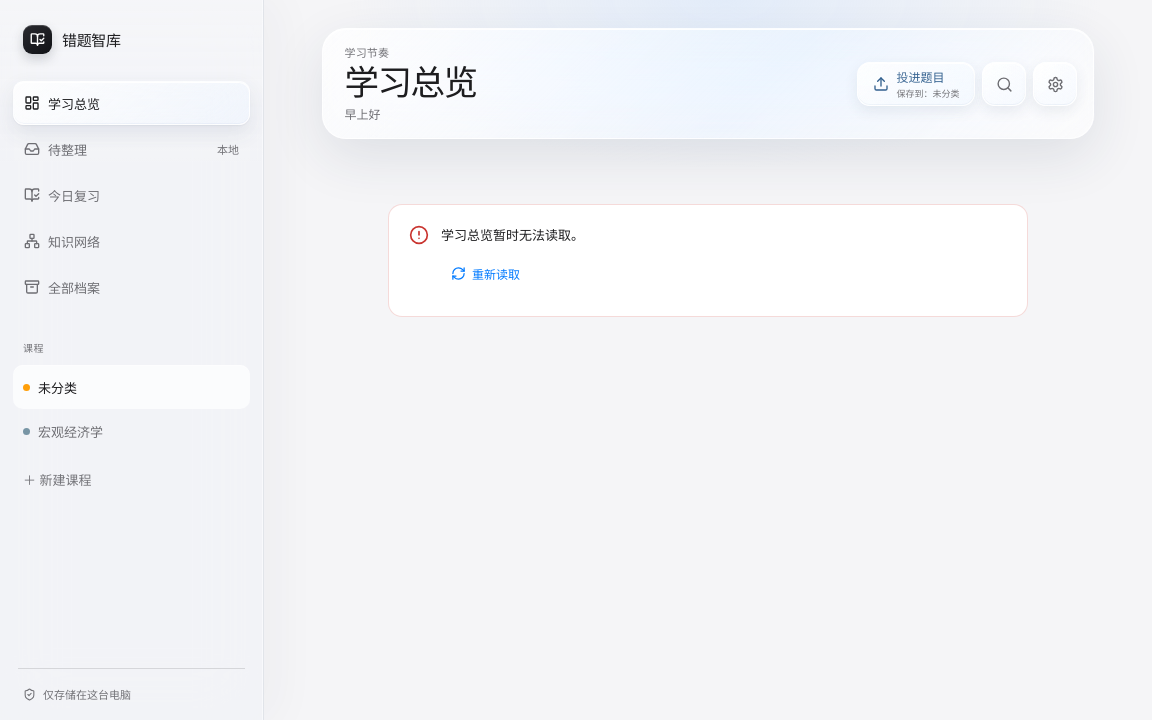
opens and cleans up global search from the toolbar and Ctrl+K
Click the button named "全局搜索": (1004, 84) [982, 62, 1026, 106]
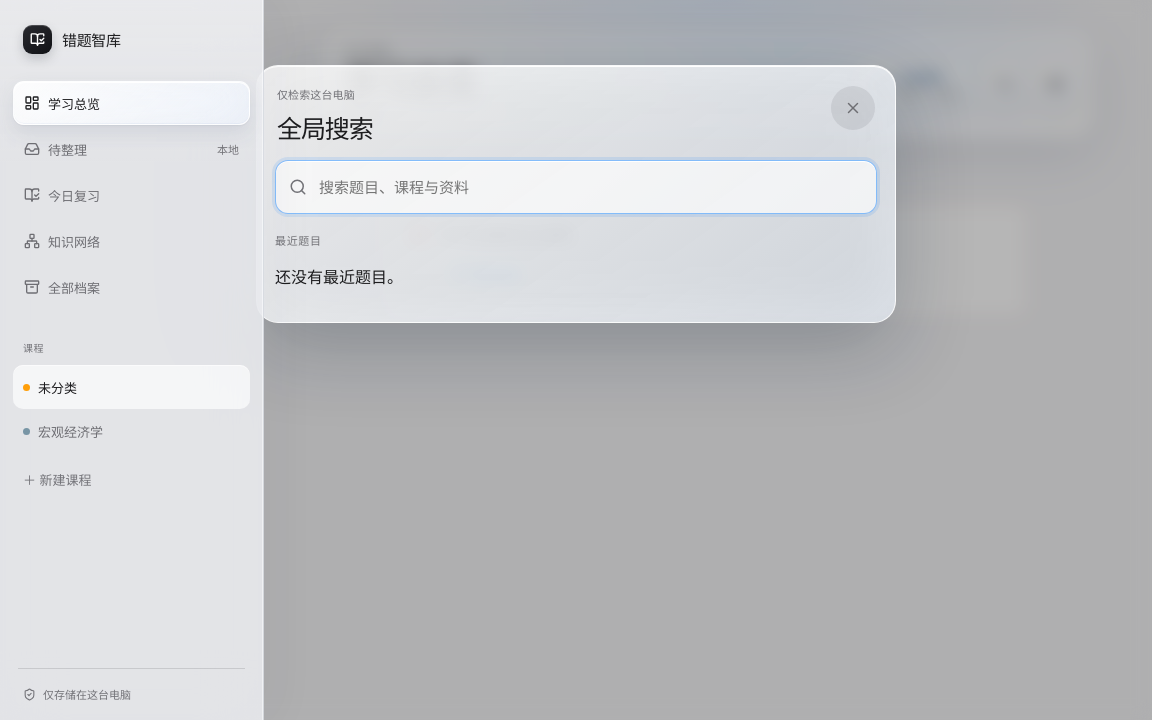
Expected: the dialog "全局搜索" is shown, [256, 65, 896, 323]
Click the button named "关闭全局搜索": (853, 108) [831, 86, 875, 130]
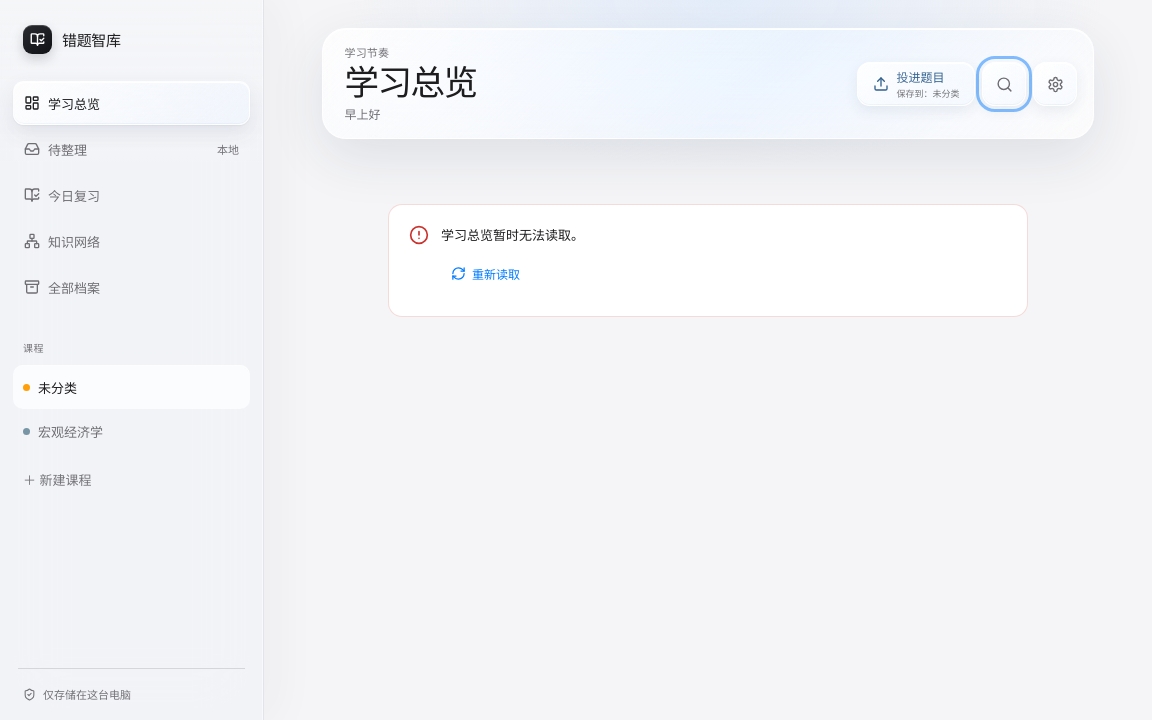
Type keys "{Control>}k{/Control}"
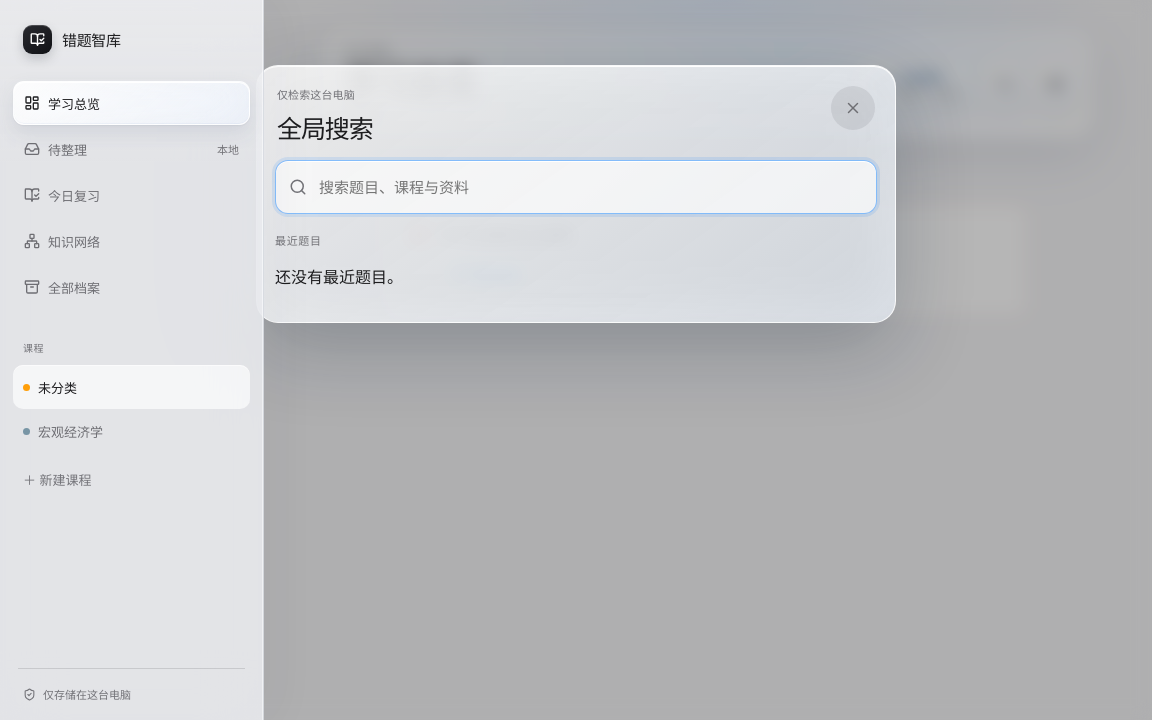
Expected: the dialog "全局搜索" is shown, [256, 65, 896, 323]
Press Escape
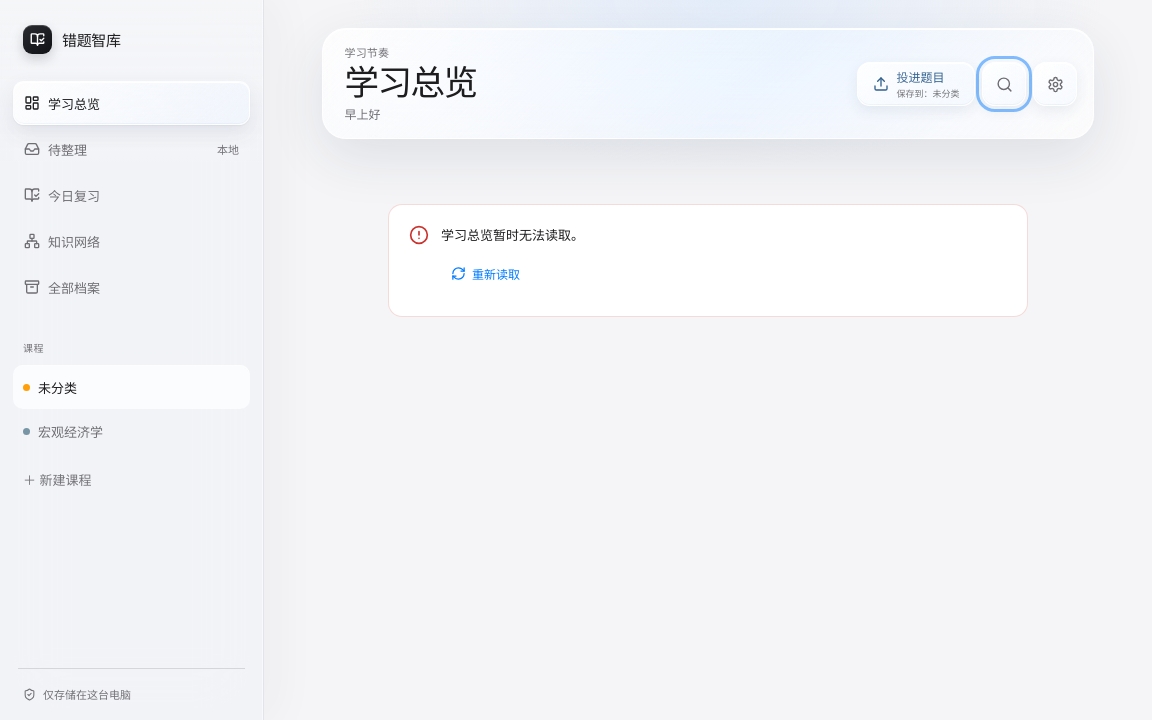
Expected: the heading "全局搜索" is gone
